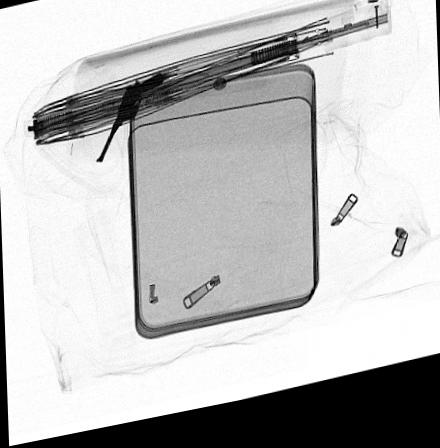Gun: (94, 77, 165, 168)
